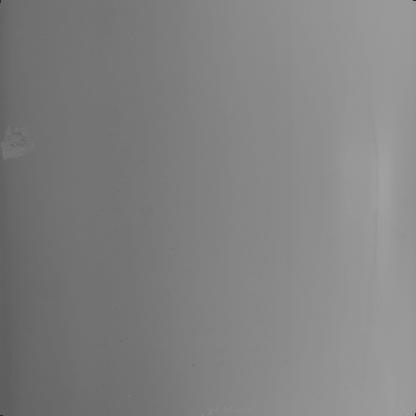sunshang: (1, 122, 39, 162)
